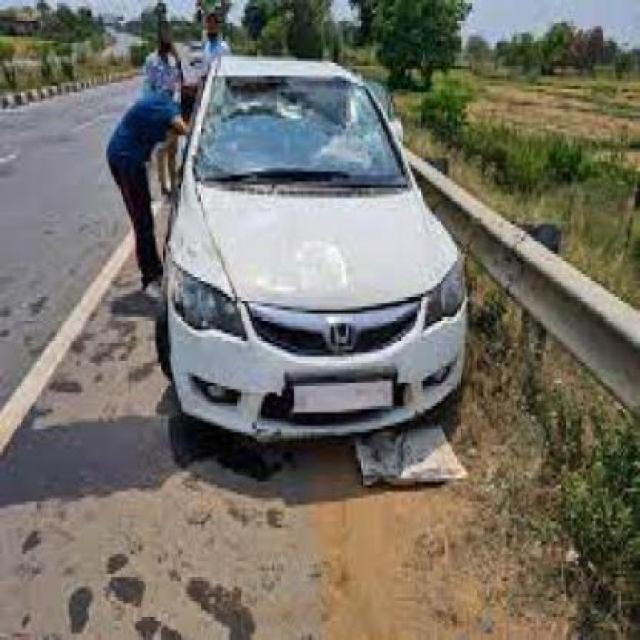Front-Windscreen-Damage: (197, 69, 410, 201)
bonnet-dent: (200, 196, 436, 322)
front-bumper-dent: (213, 350, 446, 453)
